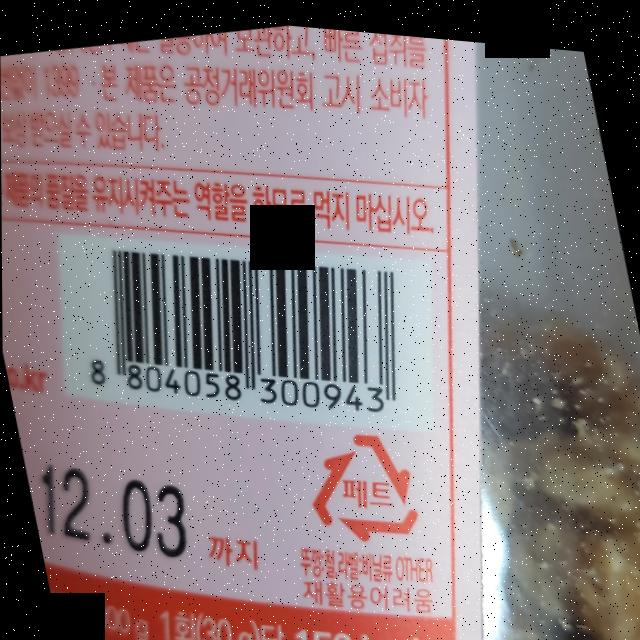PET: (295, 410, 425, 551)
